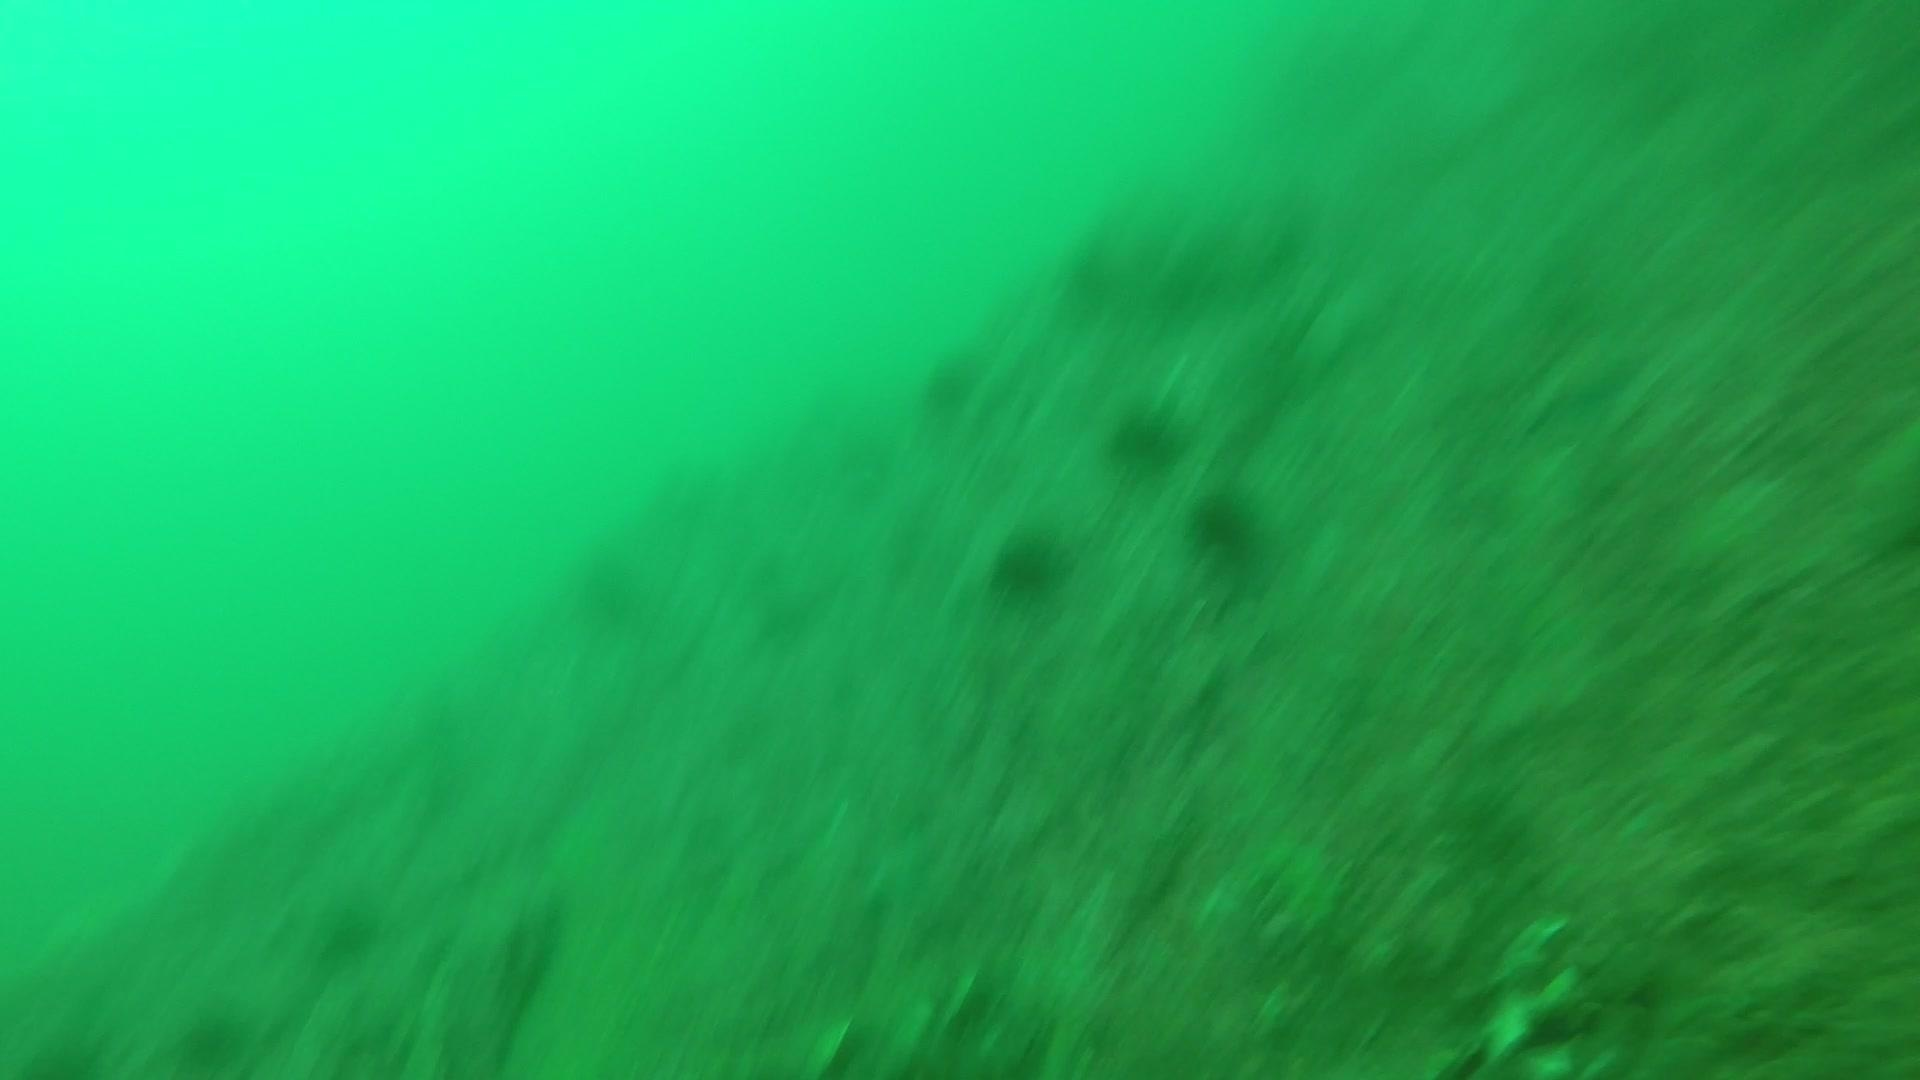echinus: (568, 542, 655, 630), (982, 524, 1073, 605), (1182, 484, 1269, 568), (1101, 398, 1187, 473), (171, 1005, 251, 1073), (313, 895, 385, 967), (915, 345, 984, 421)
